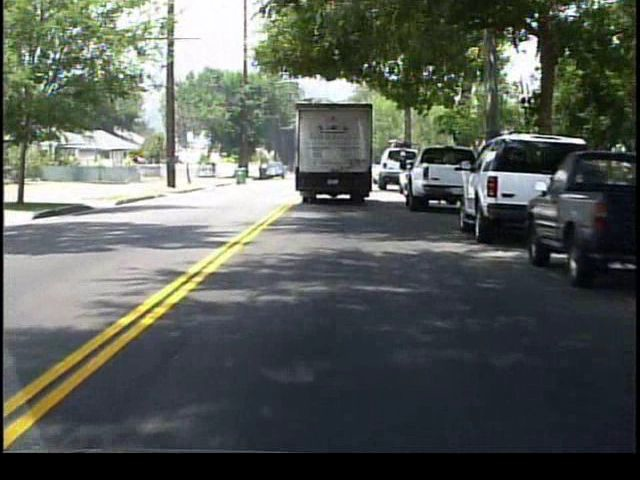person: (212, 162, 220, 183)
